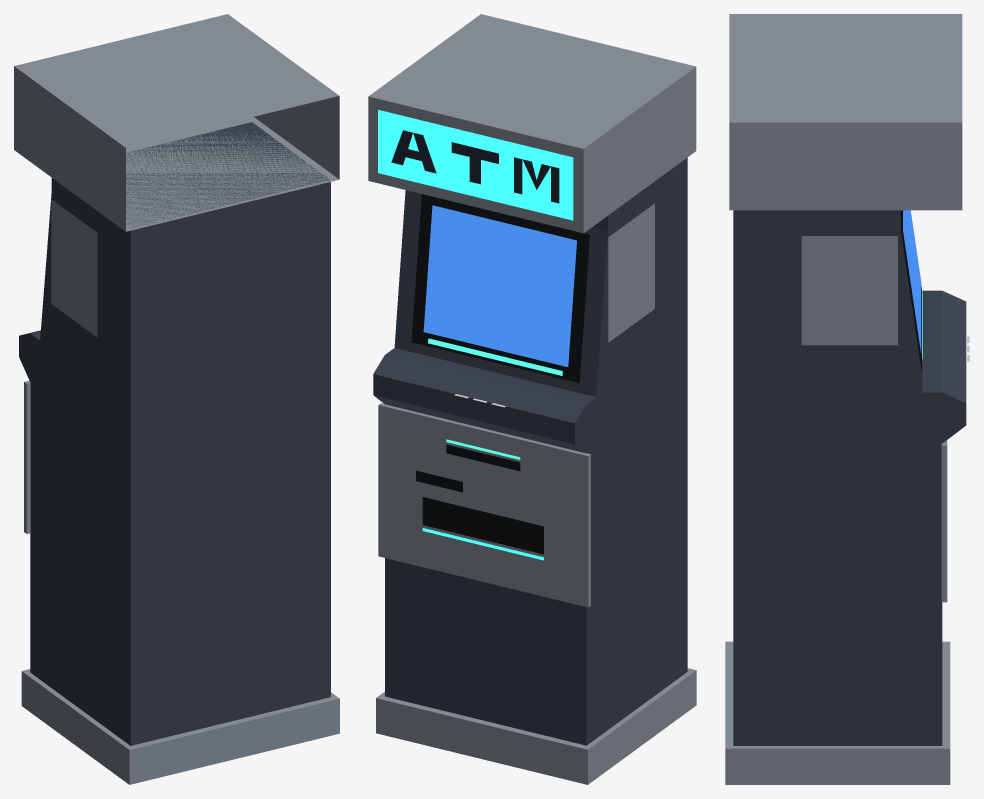
File: atm_machine.glb
3 views of the same model, side by side, from view 1: azimuth 30°, elevation 25°; view 2: azimuth 150°, elevation 25°; view 3: azimuth 270°, elevation 25° (orthographic). The views are drawn at different scales.
Parts seen in each view (by area): view 1: Body; view 2: Body; view 3: Body.
Boxes of the visible parts, left/top/right/bottom form: Body: left=14, top=14, right=339, bottom=784; Body: left=368, top=14, right=696, bottom=784; Body: left=725, top=14, right=969, bottom=784.
Size of the model in its own units: 0.64 by 1.82 by 0.608.
